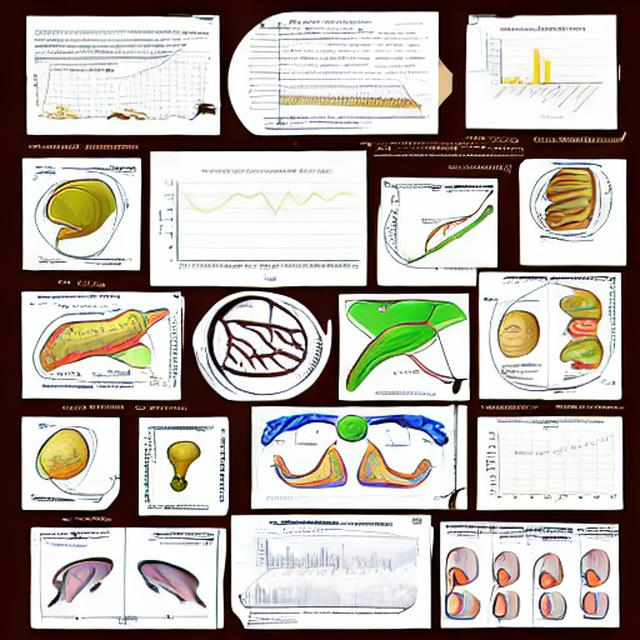Graph: (154, 161, 363, 282), (479, 25, 606, 123), (483, 418, 618, 506), (255, 533, 341, 583)
